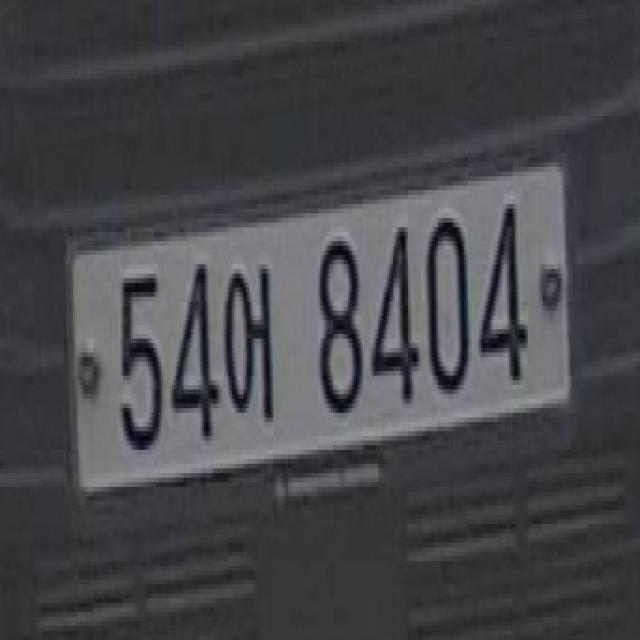0: (421, 190, 474, 427)
4: (477, 185, 541, 399), (162, 241, 222, 459), (368, 213, 424, 413)
5: (108, 232, 163, 454)
8: (316, 236, 363, 426)
eo: (220, 246, 282, 436)
license_plate: (58, 148, 578, 548)
